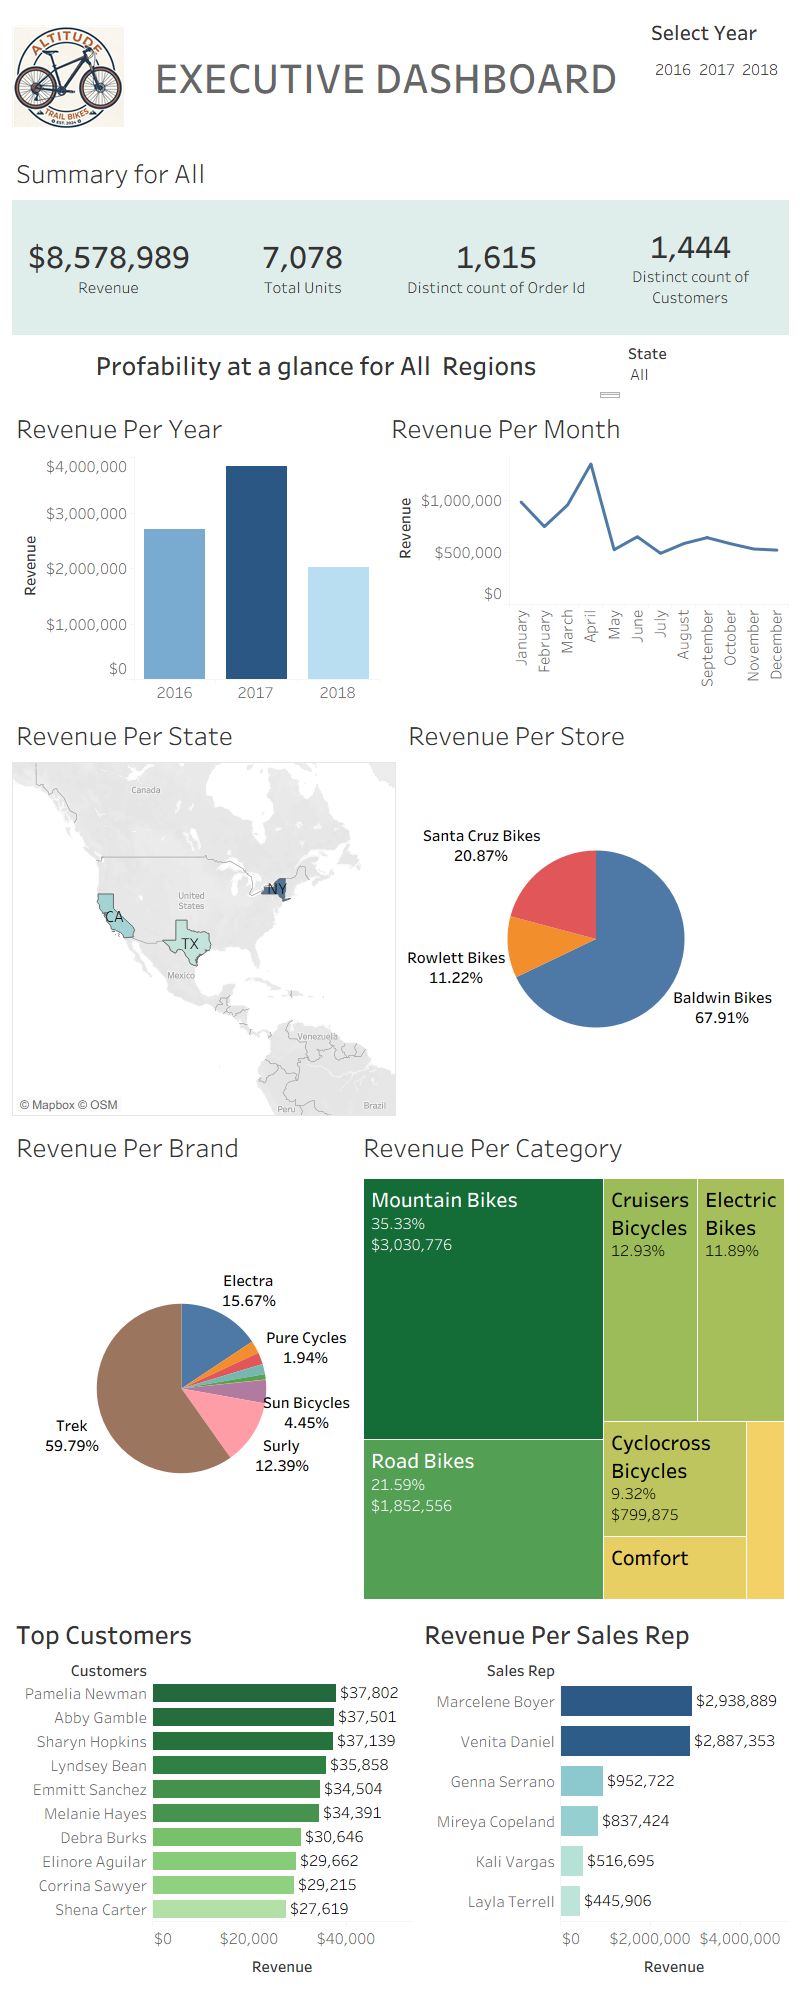

What the dashboard file says about the page in this screenshot:
{"tool":"tableau","page":{"name":"Dashboard 1","canvas":[800,2000],"ordinal":0},"visuals":[{"type":"image","param":"C:/Users/patri/Downloads/Gemini_Generated_Image_laai57laai57laai.png","box":[8,8,121,138]},{"type":"text","box":[129,8,514,138]},{"type":"worksheet","title":"Year","mark":"Automatic","box":[643,8,149,138]},{"type":"worksheet","title":"Banner","mark":"Automatic","box":[8,146,784,192]},{"type":"worksheet","title":"Title","mark":"Automatic","box":[8,338,616,63]},{"type":"filter","title":"Revenue Per State","param":"[federated.0n8jx0r19patd81fm2z7r07egaa9].[none:state:nk]","box":[624,338,168,63]},{"type":"worksheet","title":"Revenue Per Year","mark":"Bar","rows":["revenue"],"cols":["order_date"],"box":[8,401,375,307]},{"type":"worksheet","title":"Revenue Per Month","mark":"Automatic","rows":["revenue"],"cols":["order_date"],"box":[383,401,408.9,307]},{"type":"worksheet","title":"Revenue Per State","mark":"Multipolygon","box":[8,708,392,412]},{"type":"worksheet","title":"Revenue Per Store","mark":"Pie","box":[400,708,392,412]},{"type":"worksheet","title":"Revenue Per Brand","mark":"Pie","box":[8,1120,347,487]},{"type":"worksheet","title":"Revenue Per Category","mark":"Automatic","box":[355,1120,437,487]},{"type":"worksheet","title":"Revenue Top Customers","mark":"Automatic","rows":["customers"],"cols":["revenue"],"box":[8,1607,408,381]},{"type":"worksheet","title":"Revenue Per Sales Rep","mark":"Automatic","rows":["sales_rep"],"cols":["revenue"],"box":[416,1607,376,381]}]}

Visuals, with their boxes in screenshot pixels (x1, y1, x2, y2), scaled from the page's 800x2000 canvas onto the 800x2000 screenshot:
image: [left=8, top=8, right=129, bottom=146]
text: [left=129, top=8, right=643, bottom=146]
"Year" worksheet: [left=643, top=8, right=792, bottom=146]
"Banner" worksheet: [left=8, top=146, right=792, bottom=338]
"Title" worksheet: [left=8, top=338, right=624, bottom=401]
"Revenue Per State" filter: [left=624, top=338, right=792, bottom=401]
"Revenue Per Year" worksheet (Bar marks): [left=8, top=401, right=383, bottom=708]
"Revenue Per Month" worksheet: [left=383, top=401, right=792, bottom=708]
"Revenue Per State" worksheet (Multipolygon marks): [left=8, top=708, right=400, bottom=1120]
"Revenue Per Store" worksheet (Pie marks): [left=400, top=708, right=792, bottom=1120]
"Revenue Per Brand" worksheet (Pie marks): [left=8, top=1120, right=355, bottom=1607]
"Revenue Per Category" worksheet: [left=355, top=1120, right=792, bottom=1607]
"Revenue Top Customers" worksheet: [left=8, top=1607, right=416, bottom=1988]
"Revenue Per Sales Rep" worksheet: [left=416, top=1607, right=792, bottom=1988]
